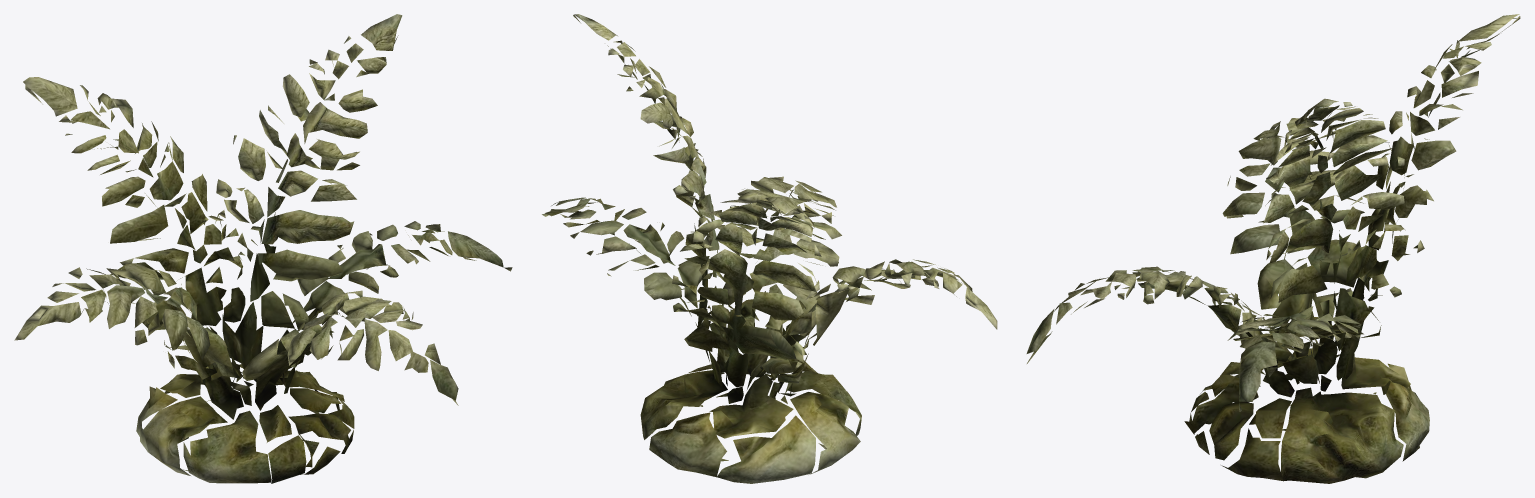
File: fern-plant-ground.glb
3 views of the same model, side by side, from view 1: azimuth 30°, elevation 25°; view 2: azimuth 150°, elevation 25°; view 3: azimuth 270°, elevation 25° (orthographic). The views are drawn at different scales.
Visible parts, largest first — view 1: tripo_node_15ab8471-5859-4bdd-9387-7b0427026d1c; view 2: tripo_node_15ab8471-5859-4bdd-9387-7b0427026d1c; view 3: tripo_node_15ab8471-5859-4bdd-9387-7b0427026d1c.
Boxes of the visible parts, x1,y1,x2,y2 form: tripo_node_15ab8471-5859-4bdd-9387-7b0427026d1c: [14, 14, 512, 483]; tripo_node_15ab8471-5859-4bdd-9387-7b0427026d1c: [542, 14, 997, 483]; tripo_node_15ab8471-5859-4bdd-9387-7b0427026d1c: [1026, 14, 1520, 483].
Size of the model in its own units: 0.9779 by 0.7712 by 0.8044.
Materials: 1 (1 with a texture image).
